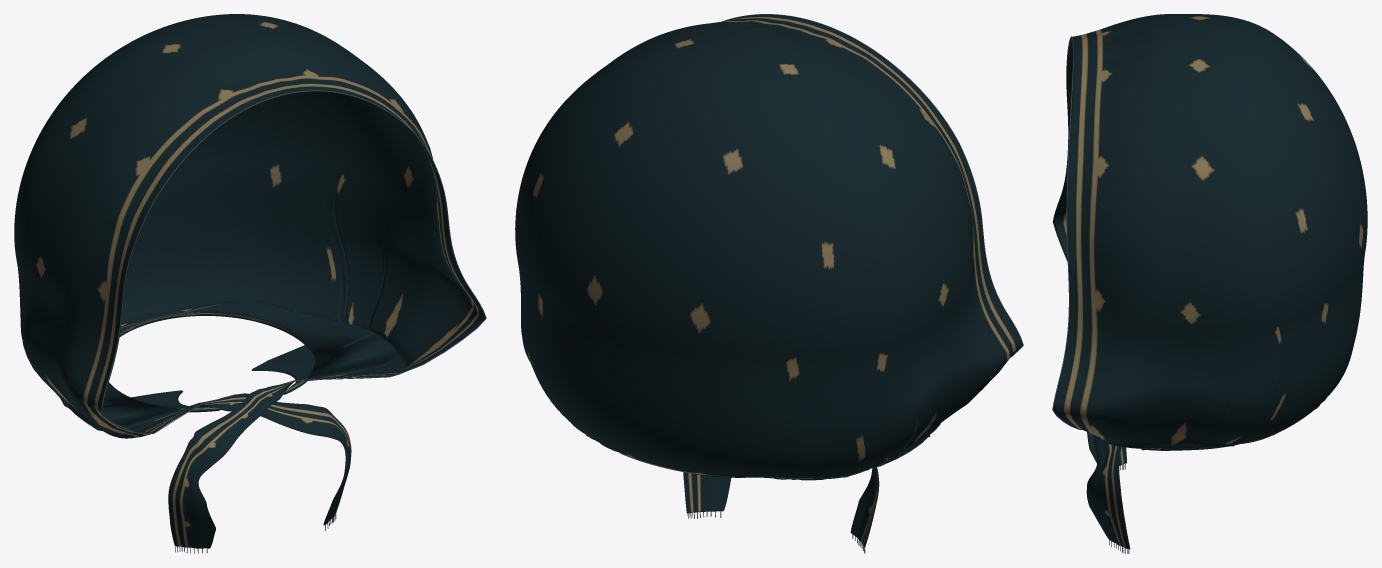
File: Feminine-box-braids-tshirt-pashmina250-headgear.glb
The picture shows the model from 3 angles, left to right: view 1: azimuth 30°, elevation 25°; view 2: azimuth 150°, elevation 25°; view 3: azimuth 270°, elevation 25°; orthographic projection. The views are drawn at different scales.
Visible parts, largest first — view 1: 226 headgear / Headwear / continuous woven pashmina239, 226 headgear / Headwear / face edge239; view 2: 226 headgear / Headwear / continuous woven pashmina239, 226 headgear / Headwear / face edge239; view 3: 226 headgear / Headwear / continuous woven pashmina239, 226 headgear / Headwear / face edge239.
Boxes of the visible parts, <box> form: 226 headgear / Headwear / continuous woven pashmina239: <box>14,14,485,548</box>; 226 headgear / Headwear / face edge239: <box>100,90,486,434</box>; 226 headgear / Headwear / continuous woven pashmina239: <box>515,14,1022,547</box>; 226 headgear / Headwear / face edge239: <box>722,14,1023,356</box>; 226 headgear / Headwear / continuous woven pashmina239: <box>1053,14,1367,549</box>; 226 headgear / Headwear / face edge239: <box>1052,36,1081,429</box>.
Bounding box in the file's own units: 1.2 × 1.4 × 0.8339.
Materials: 3 (1 with a texture image).
